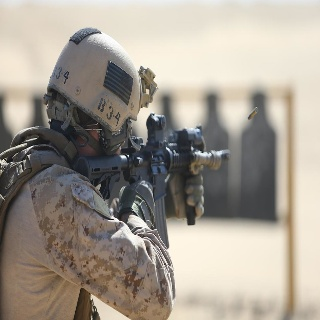rifle: (70, 112, 232, 246)
